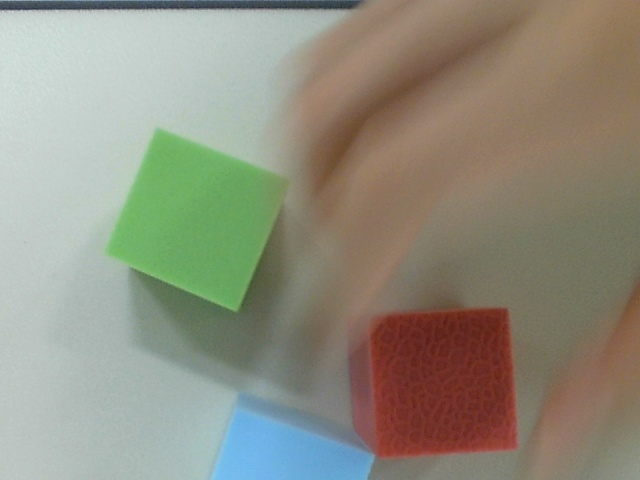greencube: (98, 122, 298, 319)
